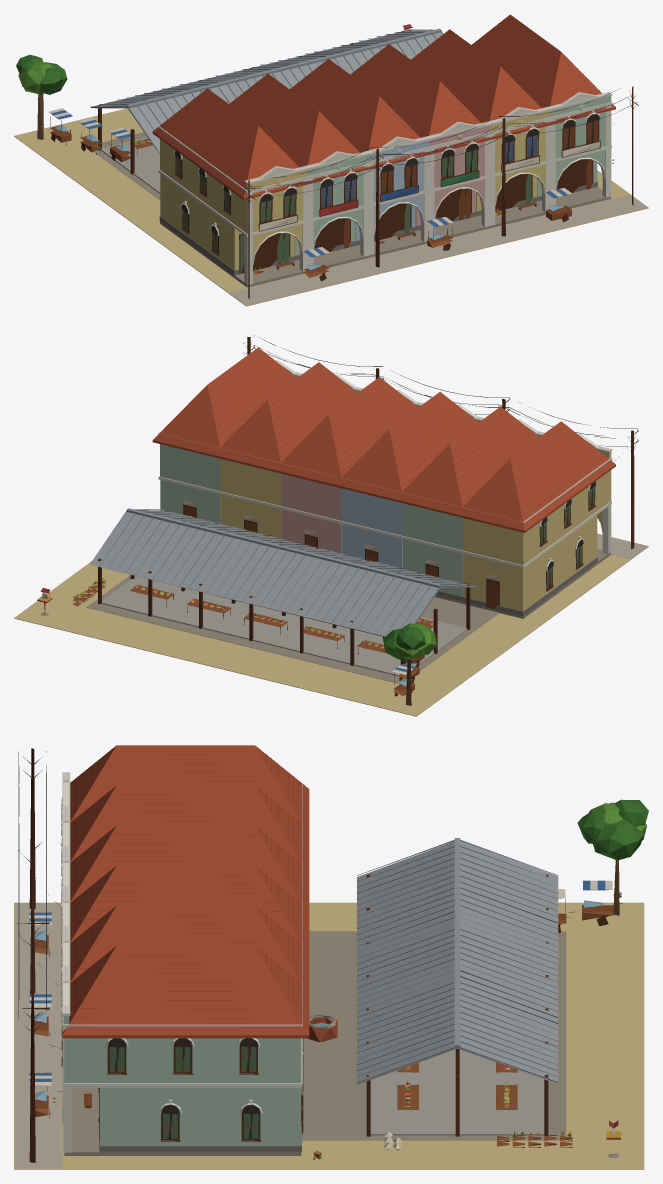
Rendered from shop_5.glb.
The picture shows the model from 3 angles, top to bottom: view 1: azimuth 30°, elevation 25°; view 2: azimuth 150°, elevation 25°; view 3: azimuth 270°, elevation 25°; orthographic projection. The views are drawn at different scales.
Visible parts, largest first — view 1: body, windows; view 2: body; view 3: body, windows.
Part boxes in pixels (bbox=[...]): body: bbox=[14, 14, 648, 306]; windows: bbox=[174, 114, 599, 253]; body: bbox=[14, 335, 648, 716]; body: bbox=[14, 745, 648, 1169]; windows: bbox=[53, 1038, 260, 1138].
Size of the model in its own units: 32.26 by 10.86 by 32.14.
